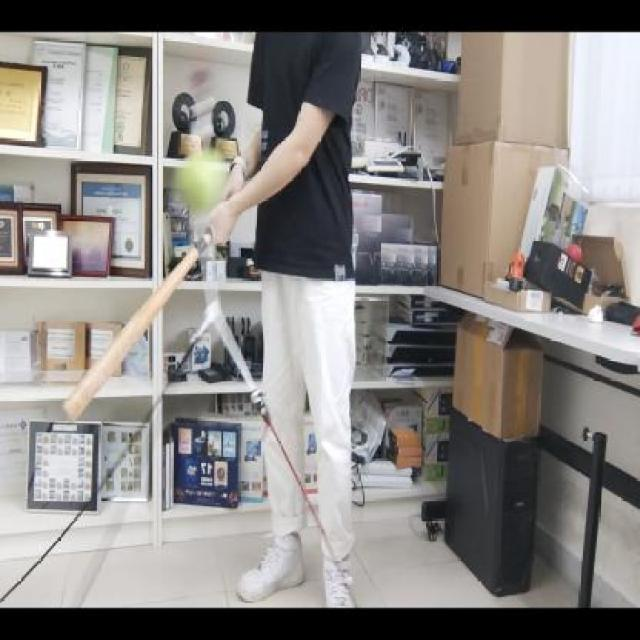baseball: (172, 145, 232, 224)
